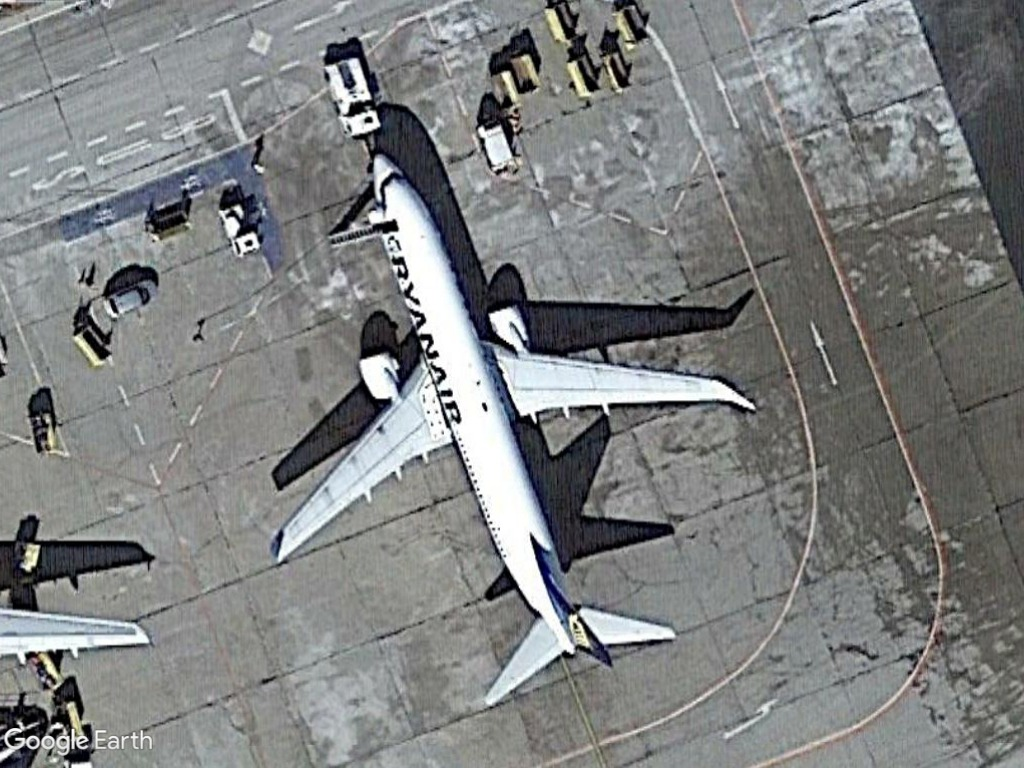airliner: (265, 144, 764, 721)
car: (100, 274, 161, 321)
pushbacktruck: (319, 52, 386, 142)
